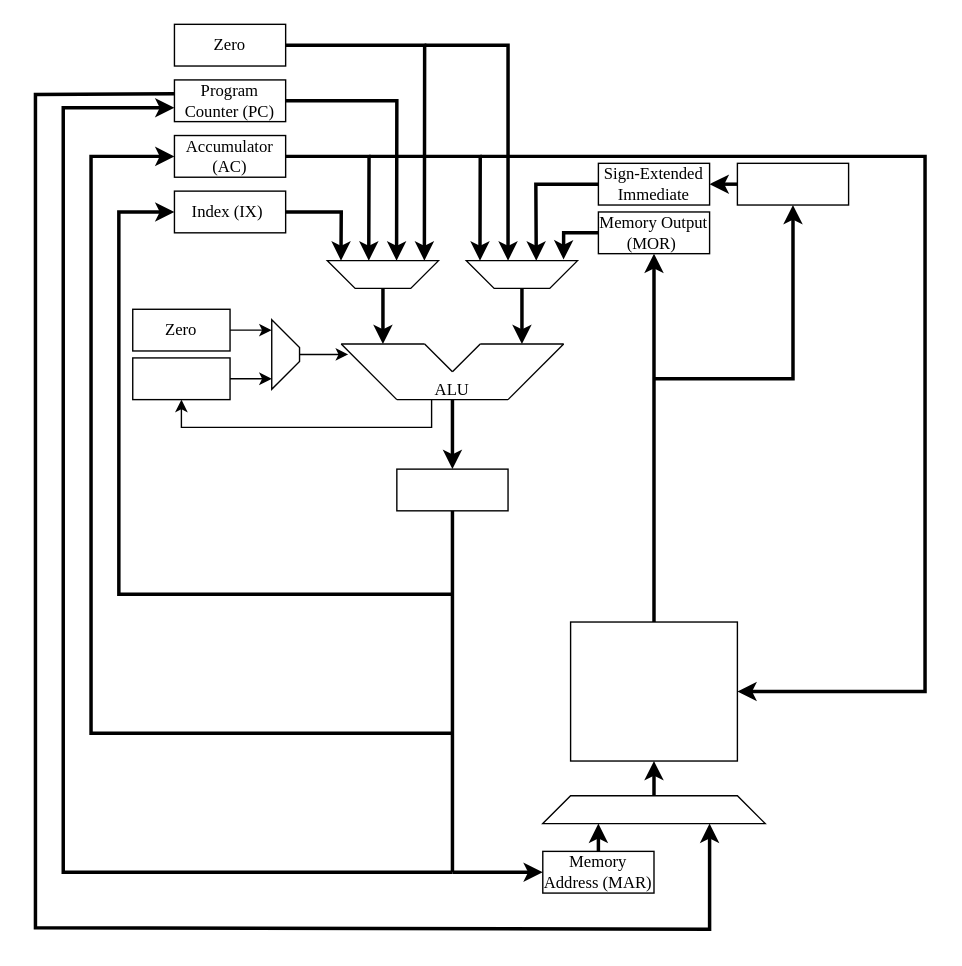
This 962x966 diagram has some shape labels left out. The shapes that lost their labels are listed below. From the top down, each one's box as (x1, y1, x2, y2) in pixels, then its label:
(736, 162, 849, 205): Instruction Register (IR)
(131, 357, 230, 400): Link (L)
(395, 468, 508, 511): ALU Result Register (ARR)
(569, 621, 737, 761): Memory
